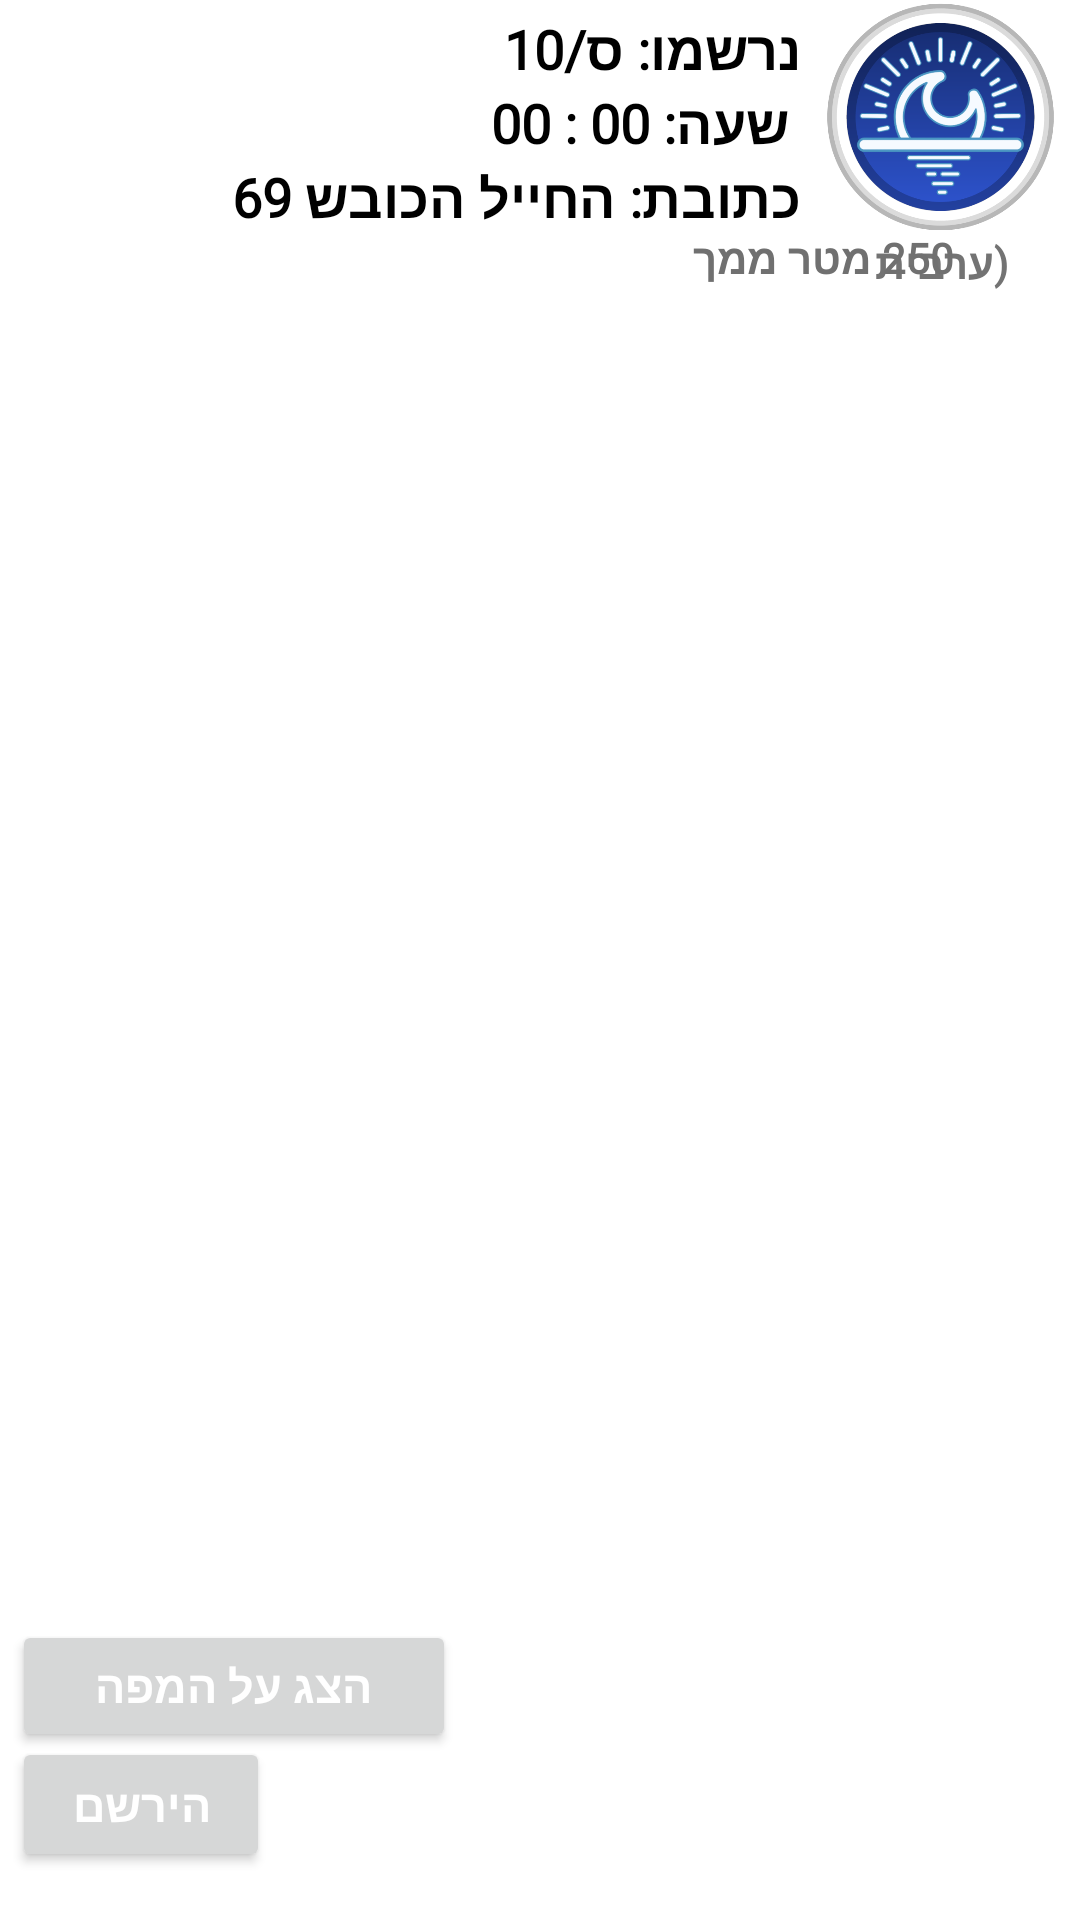

Icon click points for this 1080x1920 phone screenshot, format [x,y]:
arvit marker: [940,117]
